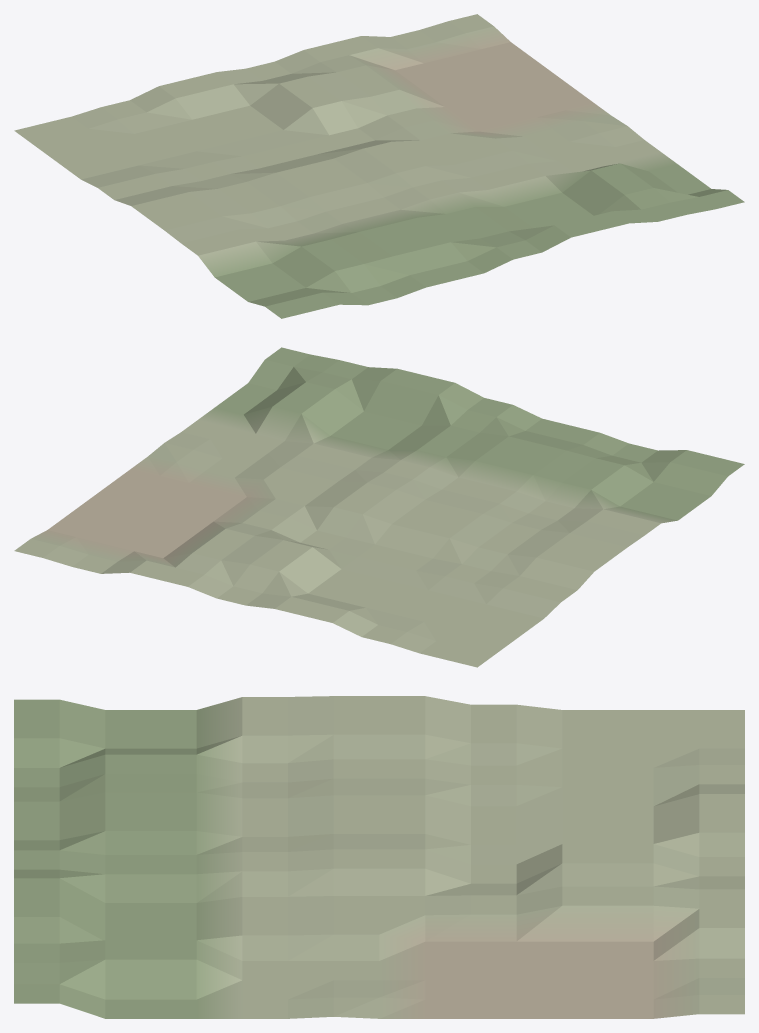
3 renders of one model, top to bottom at view 1: azimuth 30°, elevation 25°; view 2: azimuth 150°, elevation 25°; view 3: azimuth 270°, elevation 25°, orthographic. The views are drawn at different scales.
Size of the model in its own units: 32 by 1.2 by 32.
